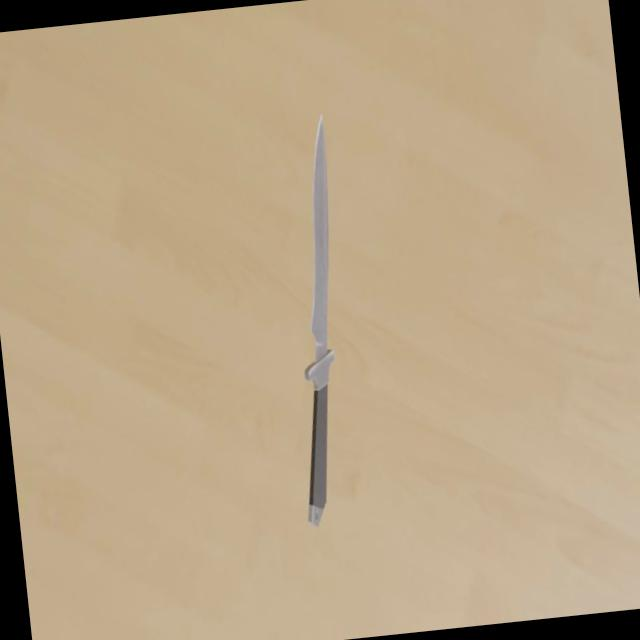knife: (294, 384, 342, 526)
